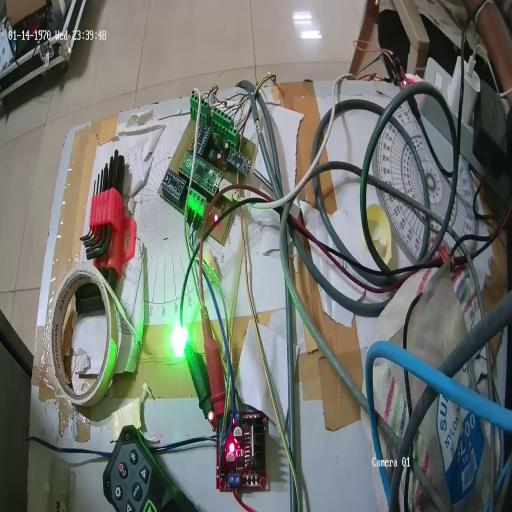laser: (166, 317, 192, 361)
